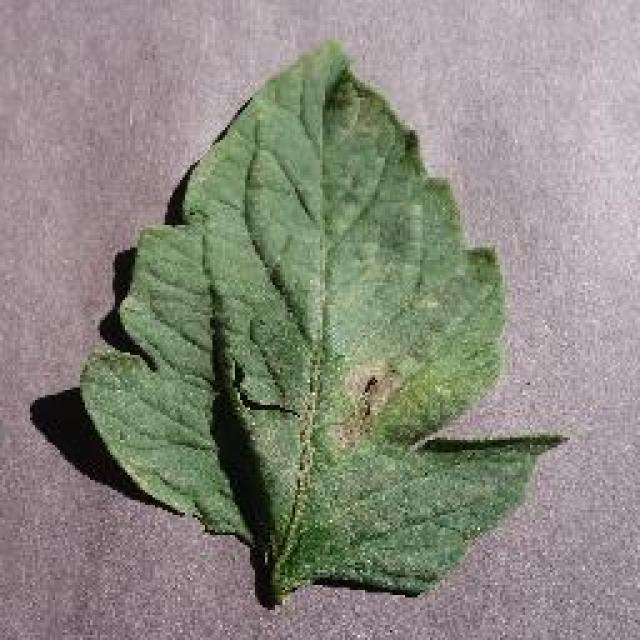Tomato_Early_Blight: (262, 272, 496, 542)
